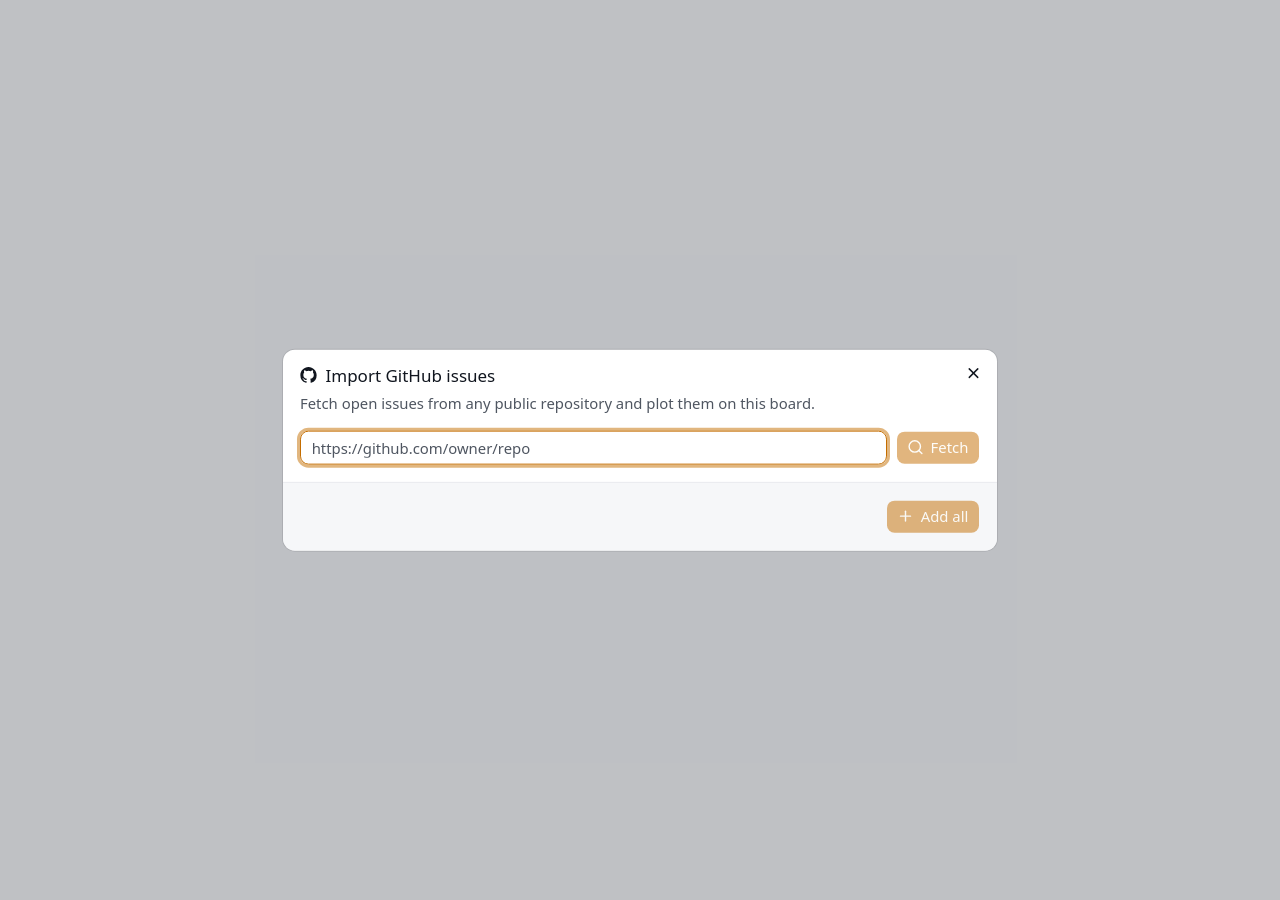
Test: ImportIssuesDialog › shows an error for an invalid repository URL
The width and height of the screenshot is (1280, 900).
Type "not a repository" into the field with placeholder "https://github.com/owner/repo" at x=594, y=447, box [300, 430, 887, 464]
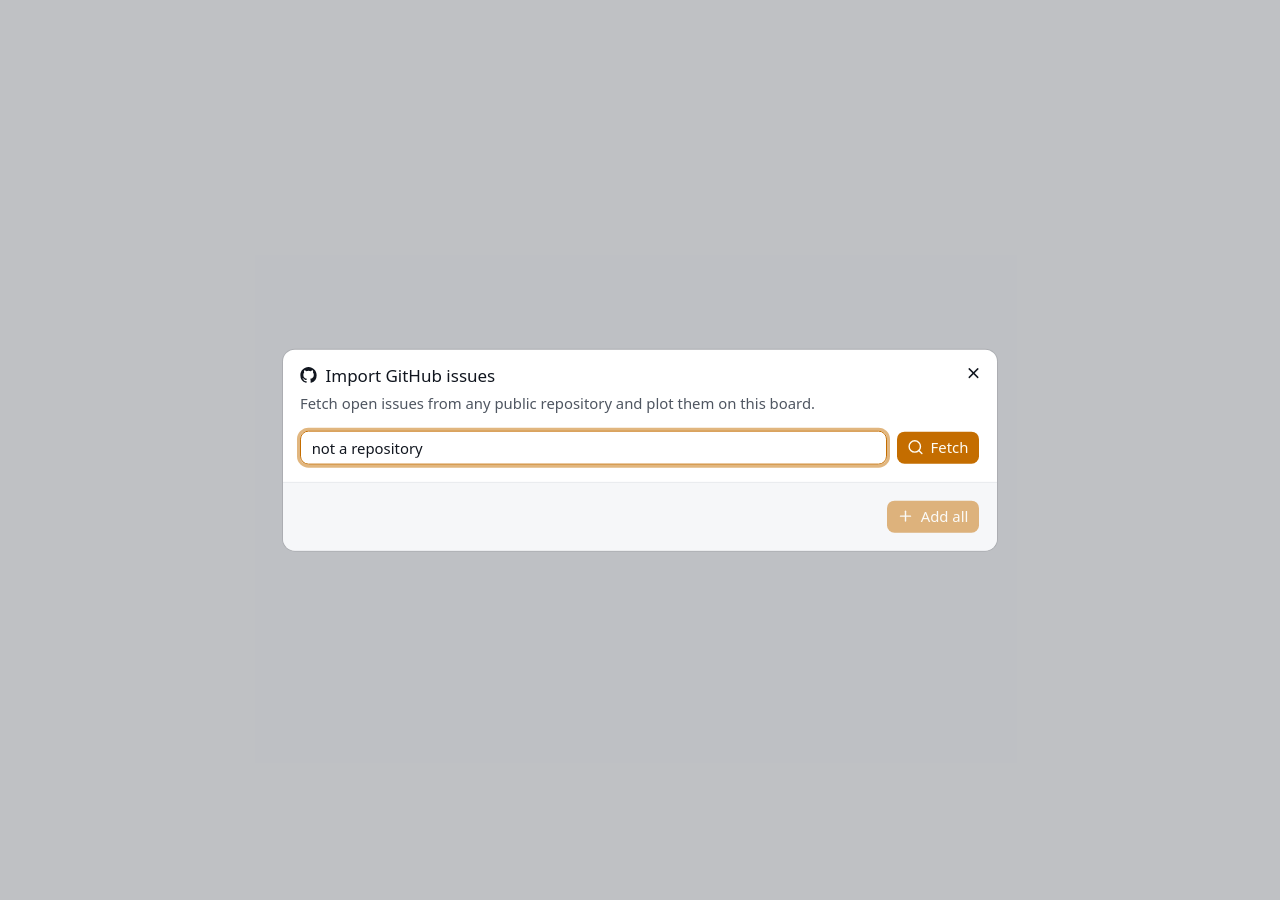
Click the button "Fetch" at x=938, y=447, box [896, 430, 980, 464]
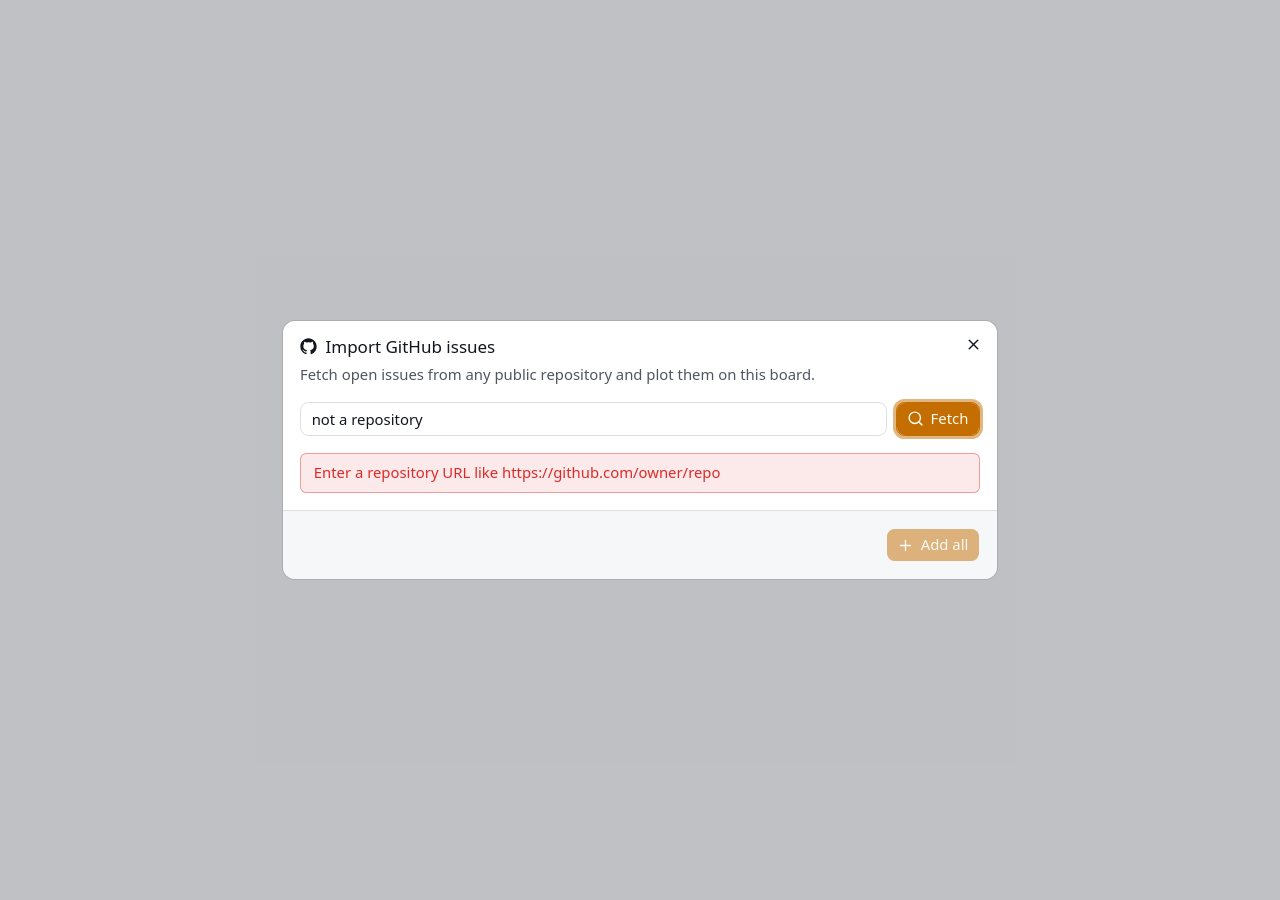
expect the text "Enter a repository URL like https://github.com/owner/repo" is shown: met, box [300, 453, 980, 493]
